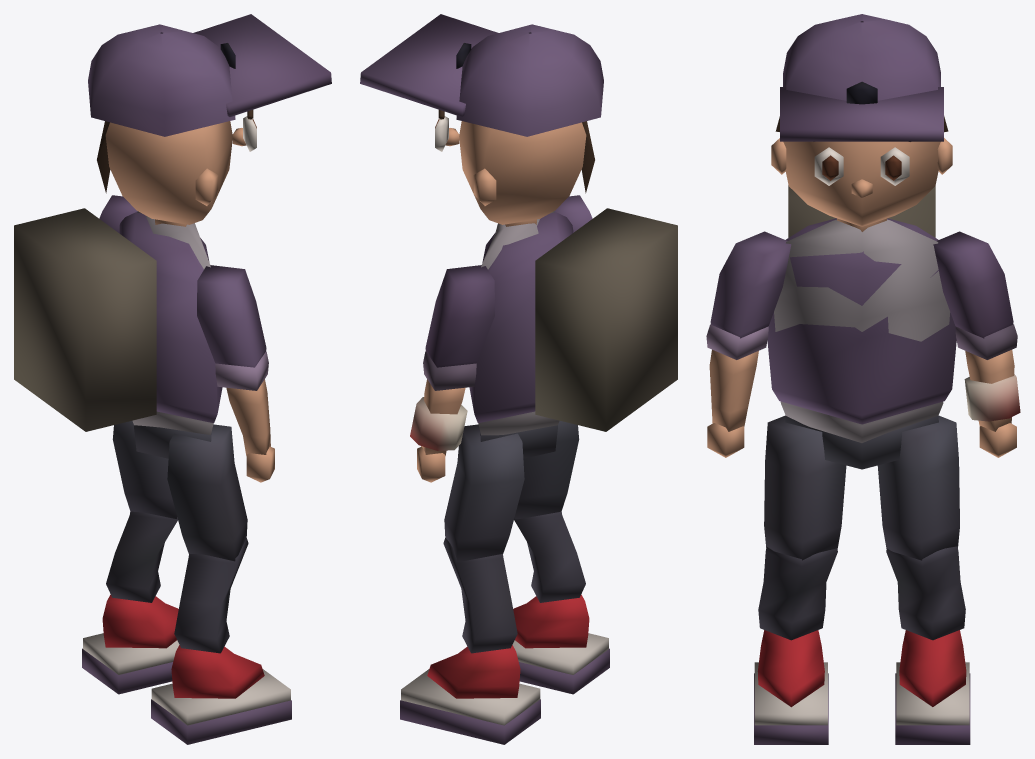
The model's file is npc.survivor-group.aftermath.cap-woman.lod1.glb.
3 renders of one model, left to right at view 1: azimuth 30°, elevation 25°; view 2: azimuth 150°, elevation 25°; view 3: azimuth 270°, elevation 25°, orthographic. The views are drawn at different scales.
Parts seen in each view (by area): view 1: torso, head, footR, legR, footL, armR, shinR, shinL, legL, foreArmR, hip, handR (+1 smaller); view 2: torso, head, footL, legL, footR, armL, shinL, foreArmL, shinR, legR, hip, handL (+1 smaller); view 3: torso, head, legR, legL, footL, footR, armR, armL, shinL, shinR, foreArmL, foreArmR (+3 smaller).
Part boxes in pixels (x1,y1,x2,y2): torso: [14, 208, 222, 434]; head: [88, 14, 331, 226]; footR: [151, 645, 291, 744]; legR: [167, 424, 247, 561]; footL: [82, 594, 179, 694]; armR: [197, 265, 266, 367]; shinR: [174, 538, 248, 653]; shinL: [106, 511, 177, 602]; legL: [112, 421, 177, 518]; foreArmR: [215, 351, 270, 455]; hip: [134, 425, 211, 458]; handR: [246, 446, 274, 482]; torso: [469, 208, 677, 435]; head: [360, 14, 603, 226]; footL: [400, 645, 540, 744]; legL: [444, 424, 524, 561]; footR: [512, 594, 609, 694]; armL: [425, 265, 494, 367]; shinL: [443, 538, 517, 653]; foreArmL: [410, 351, 476, 455]; shinR: [514, 511, 585, 602]; legR: [515, 421, 579, 519]; hip: [480, 425, 557, 458]; handL: [417, 446, 445, 482]; torso: [767, 185, 956, 442]; head: [771, 14, 952, 231]; legR: [764, 415, 846, 560]; legL: [877, 415, 959, 560]; footL: [895, 630, 970, 744]; footR: [754, 630, 828, 744]; armR: [710, 231, 791, 338]; armL: [933, 231, 1013, 338]; shinL: [886, 546, 965, 640]; shinR: [758, 546, 837, 640]; foreArmL: [955, 324, 1020, 431]; foreArmR: [706, 324, 768, 431].
Size of the model in its own units: 0.6794 by 1.79 by 0.7435.
